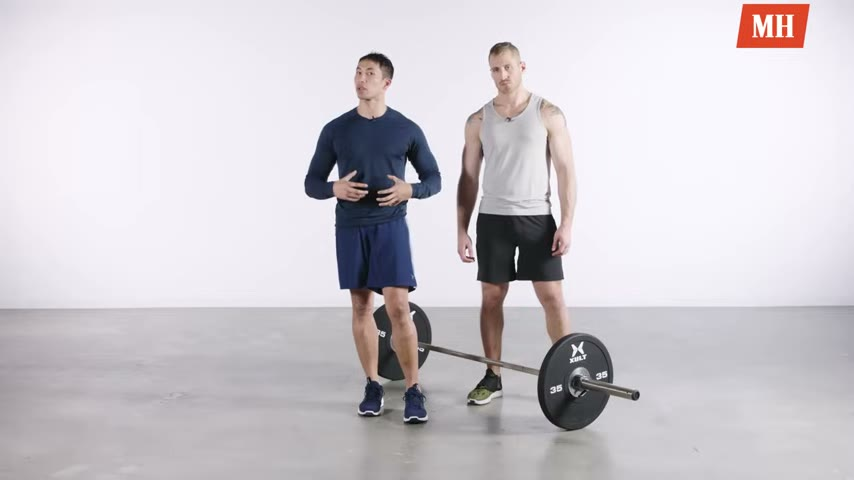barbell_plate_side: (576, 331, 642, 442)
